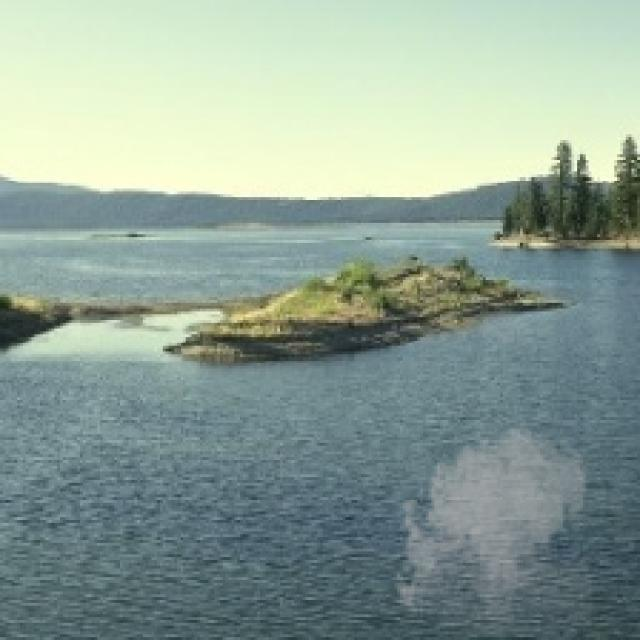Smoke: (388, 414, 594, 634)
